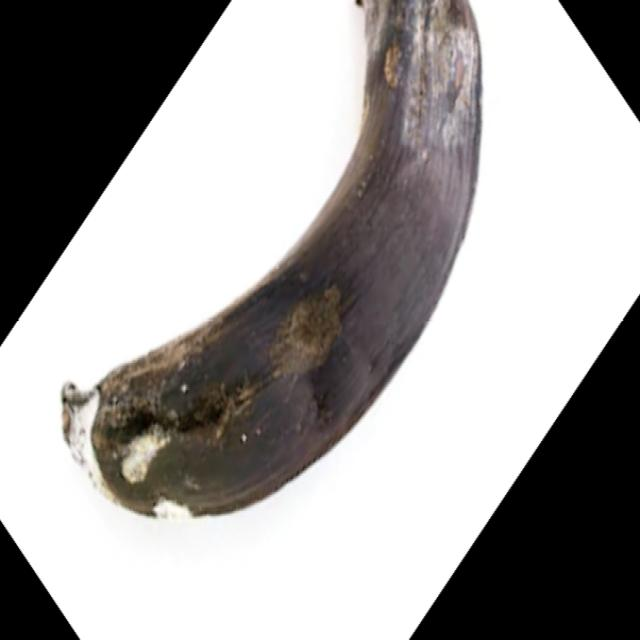Rotten: (60, 0, 482, 523)
